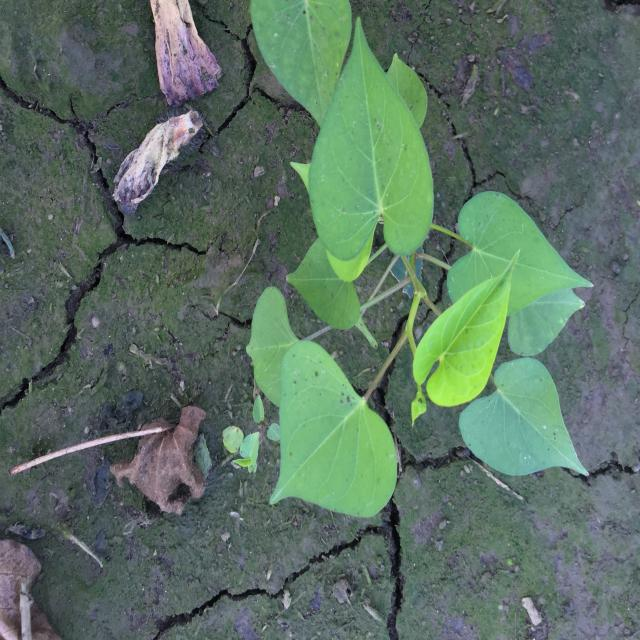MorningGlory: (245, 1, 594, 516), (222, 425, 260, 473)
